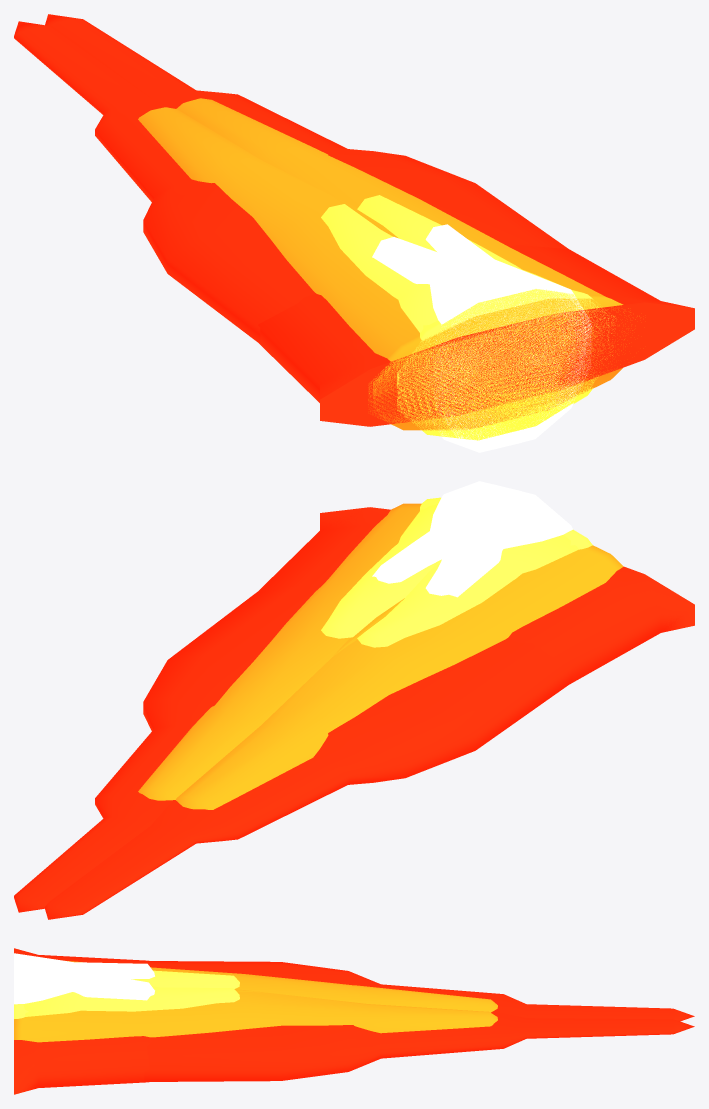
The model's file is newsh5-203.glb.
The picture shows the model from 3 angles, top to bottom: view 1: azimuth 30°, elevation 25°; view 2: azimuth 150°, elevation 25°; view 3: azimuth 270°, elevation 25°; orthographic projection. The views are drawn at different scales.
Visible parts, largest first — view 1: newsh5-203-205, newsh5-203-203; view 2: newsh5-203-205, newsh5-203-203; view 3: newsh5-203-203, newsh5-203-205.
Part boxes in pixels (x1=…): newsh5-203-205: x1=14, y1=21, x2=694, y2=452; newsh5-203-203: x1=45, y1=14, x2=694, y2=449; newsh5-203-205: x1=45, y1=484, x2=694, y2=919; newsh5-203-203: x1=14, y1=481, x2=694, y2=912; newsh5-203-203: x1=14, y1=948, x2=694, y2=1094; newsh5-203-205: x1=14, y1=948, x2=694, y2=1093.
Size of the model in its own units: 1.06 by 0.4422 by 2.33.
